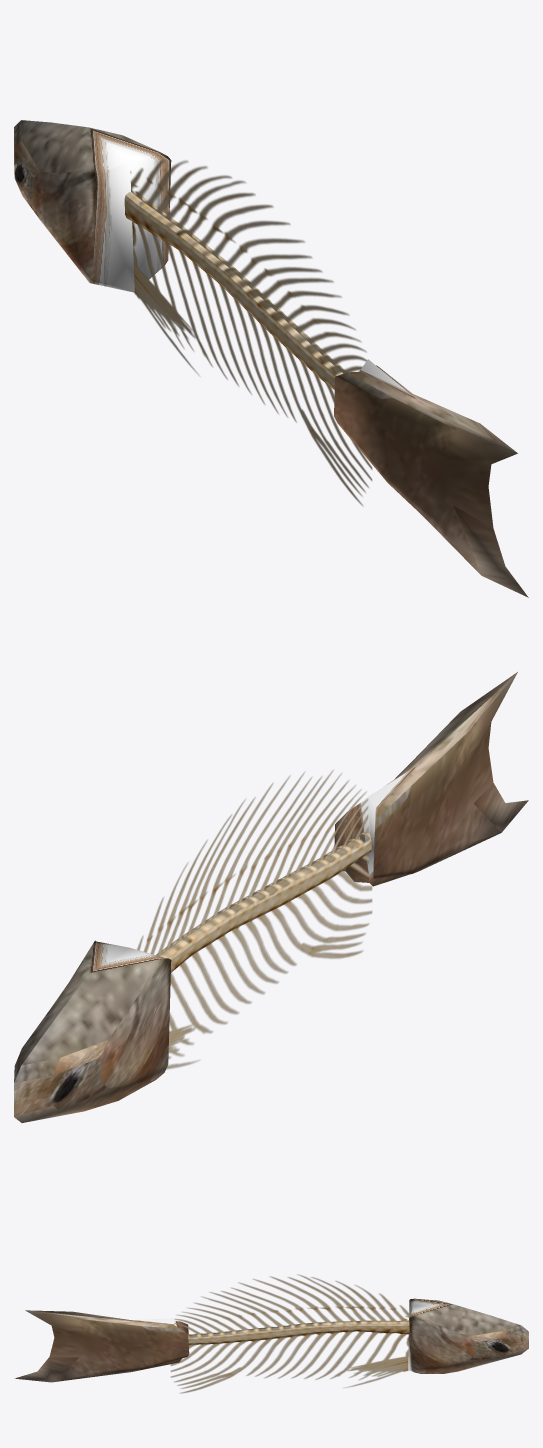
Rendered from FISH04.glb.
3 views of the same model, one above another, from view 1: azimuth 30°, elevation 25°; view 2: azimuth 150°, elevation 25°; view 3: azimuth 270°, elevation 25° (orthographic). The views are drawn at different scales.
Visible parts, largest first — view 1: fish-skeleton-side-view-with-detailed-bones-isolated-on-tran; view 2: fish-skeleton-side-view-with-detailed-bones-isolated-on-tran; view 3: fish-skeleton-side-view-with-detailed-bones-isolated-on-tran.
Part boxes in pixels (x1,y1,x2,y2): fish-skeleton-side-view-with-detailed-bones-isolated-on-tran: [14, 120, 528, 597]; fish-skeleton-side-view-with-detailed-bones-isolated-on-tran: [14, 672, 528, 1122]; fish-skeleton-side-view-with-detailed-bones-isolated-on-tran: [14, 1274, 528, 1393].
Bounding box in the file's own units: 0.1017 × 0.5137 × 1.2.
Materials: 2 (2 with a texture image).
